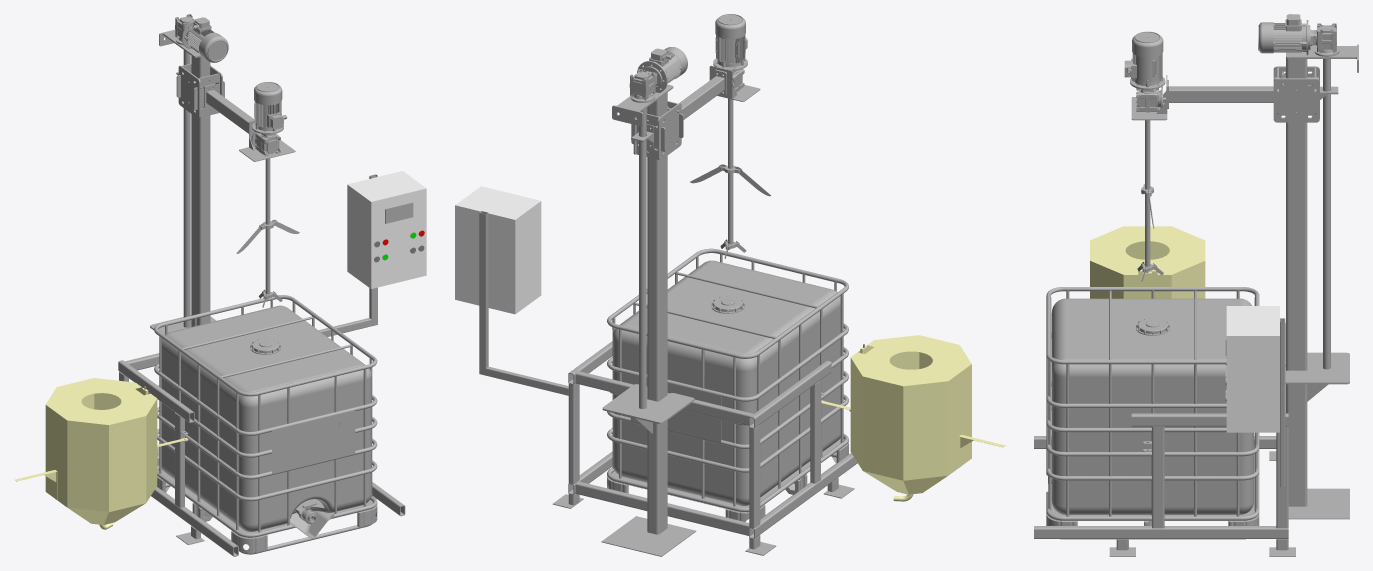
The model's file is mec_misc_assieme_r02.glb.
The picture shows the model from 3 angles, left to right: view 1: azimuth 30°, elevation 25°; view 2: azimuth 150°, elevation 25°; view 3: azimuth 270°, elevation 25°; orthographic projection. The views are drawn at different scales.
Visible parts, largest first — view 1: IBC Assembly-1, mec_misc_vasca_lavaggio_r03-1, mec_misc_struttura_r02-1, mec_prof_sample_quadro_elettrico-1, mec_misc_motore_riduttore-1, mec_misc_motore_riduttore-2, braccio_slitta_r02-1, piastra_laterale-1, mec_misc_impeller_asta_r01-1, piastra_frontale-1, piastra_collegamento_motore_r02-1; view 2: IBC Assembly-1, mec_misc_struttura_r02-1, mec_misc_vasca_lavaggio_r03-1, mec_prof_sample_quadro_elettrico-1, mec_misc_motore_riduttore-2, mec_misc_motore_riduttore-1, braccio_slitta_r02-1, piastra_laterale-1, mec_misc_impeller_asta_r01-1; view 3: IBC Assembly-1, mec_misc_struttura_r02-1, mec_misc_vasca_lavaggio_r03-1, mec_prof_sample_quadro_elettrico-1, mec_misc_motore_riduttore-2, mec_misc_motore_riduttore-1, piastra_laterale-2, braccio_slitta_r02-1, mec_misc_impeller_asta_r01-1, piastra_collegamento_motore_r02-1.
Part boxes in pixels (x1,y1,x2,y2): IBC Assembly-1: [154, 295, 377, 554]; mec_misc_vasca_lavaggio_r03-1: [14, 378, 188, 529]; mec_misc_struttura_r02-1: [118, 29, 405, 556]; mec_prof_sample_quadro_elettrico-1: [347, 171, 426, 288]; mec_misc_motore_riduttore-1: [251, 82, 287, 156]; mec_misc_motore_riduttore-2: [175, 14, 228, 62]; braccio_slitta_r02-1: [204, 84, 254, 133]; piastra_laterale-1: [178, 65, 200, 118]; mec_misc_impeller_asta_r01-1: [265, 158, 270, 294]; piastra_frontale-1: [193, 73, 224, 117]; piastra_collegamento_motore_r02-1: [239, 120, 295, 161]; IBC Assembly-1: [607, 248, 848, 521]; mec_misc_struttura_r02-1: [479, 84, 857, 556]; mec_misc_vasca_lavaggio_r03-1: [821, 335, 1005, 501]; mec_prof_sample_quadro_elettrico-1: [455, 186, 541, 314]; mec_misc_motore_riduttore-2: [629, 47, 687, 102]; mec_misc_motore_riduttore-1: [713, 14, 747, 92]; braccio_slitta_r02-1: [679, 69, 726, 119]; piastra_laterale-1: [657, 103, 681, 160]; mec_misc_impeller_asta_r01-1: [728, 98, 733, 244]; IBC Assembly-1: [1046, 287, 1259, 539]; mec_misc_struttura_r02-1: [1034, 44, 1358, 556]; mec_misc_vasca_lavaggio_r03-1: [1090, 226, 1205, 298]; mec_prof_sample_quadro_elettrico-1: [1225, 306, 1279, 432]; mec_misc_motore_riduttore-2: [1258, 14, 1339, 56]; mec_misc_motore_riduttore-1: [1124, 31, 1166, 112]; piastra_laterale-2: [1273, 78, 1319, 122]; braccio_slitta_r02-1: [1167, 80, 1273, 108]; mec_misc_impeller_asta_r01-1: [1145, 120, 1150, 266]; piastra_collegamento_motore_r02-1: [1131, 75, 1167, 120].
Bounding box in the file's own units: 3.22 × 3.03 × 1.83.
